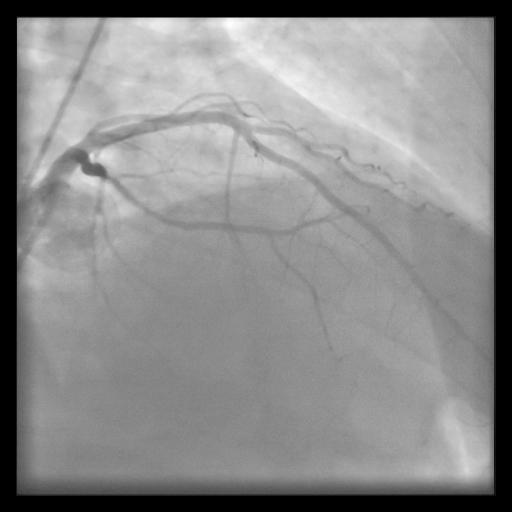Stenosis: (96, 165, 128, 198)
